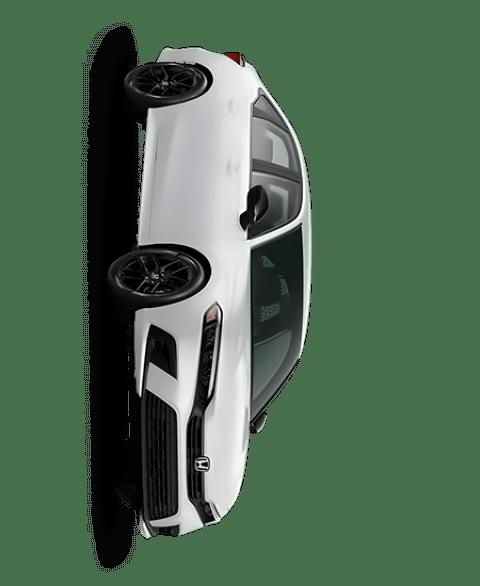Car hood: (206, 248, 264, 520)
Driver-s door - -F-R-: (121, 151, 314, 257)
Fender - -F-R-: (119, 234, 263, 310)
Fender - -R-R-: (143, 44, 288, 117)
Front bumper: (110, 300, 201, 544)
Headlight - -L-: (199, 502, 222, 527)
Headlight - -R-: (191, 298, 225, 414)
Passenger-s door - -R-R-: (122, 91, 312, 178)
Rear light - -R-: (221, 50, 246, 66)
Side bumper - -R-: (127, 98, 185, 252)
Side mirror - -R-: (236, 182, 271, 230)
